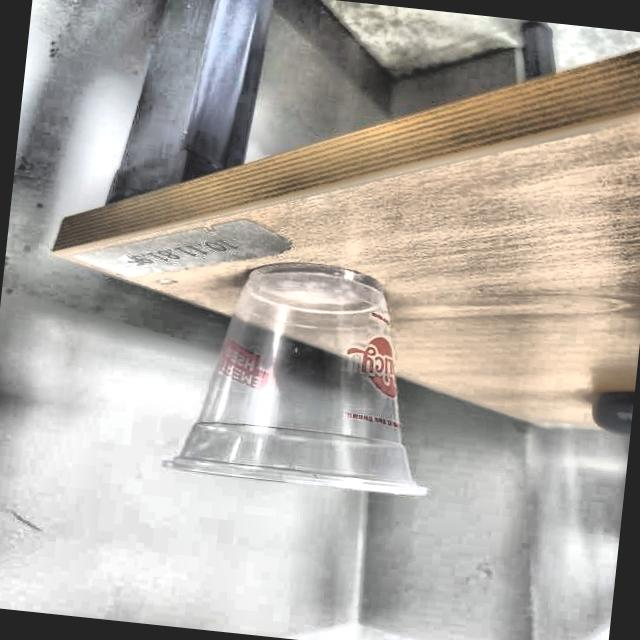plastic cup: (157, 249, 451, 500)
